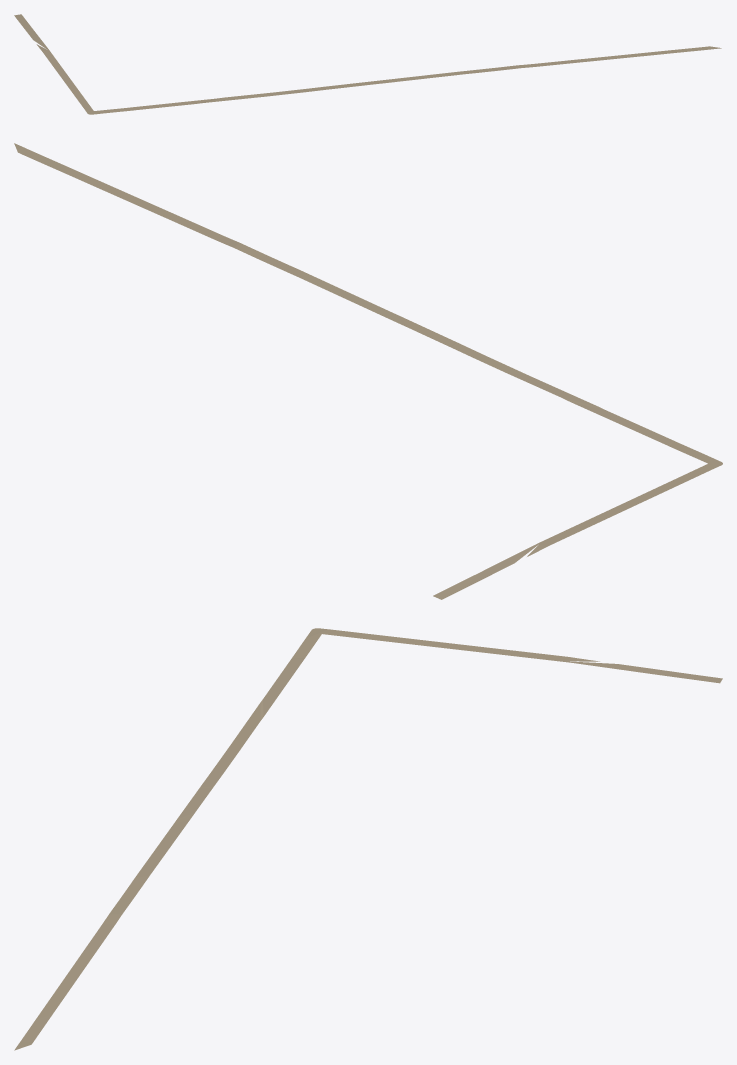
The model's file is farm_13_15_track.glb.
3 views of the same model, one above another, from view 1: azimuth 30°, elevation 25°; view 2: azimuth 150°, elevation 25°; view 3: azimuth 270°, elevation 25° (orthographic). The views are drawn at different scales.
Parts seen in each view (by area): view 1: geometry_0; view 2: geometry_0; view 3: geometry_0.
Boxes of the visible parts, x1,y1,x2,y2 form: geometry_0: (14, 14, 721, 114); geometry_0: (14, 143, 722, 599); geometry_0: (14, 628, 722, 1050).
Bounding box in the file's own units: 261 × 4.13 × 184.
